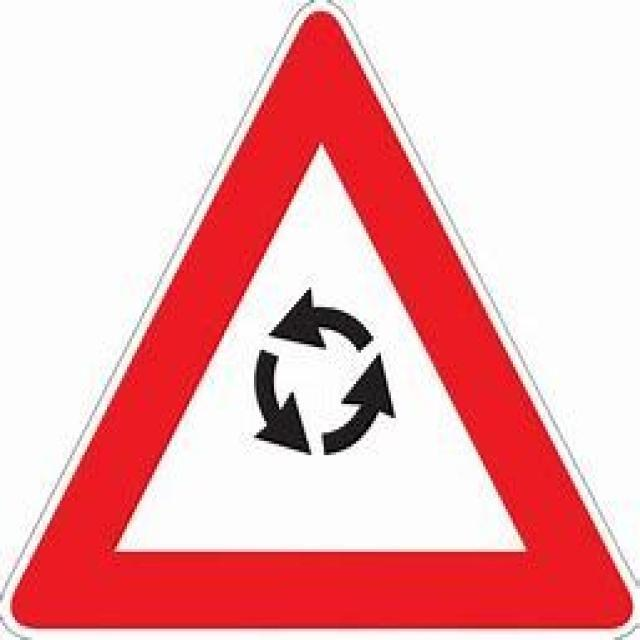roundabout: (16, 16, 626, 618)
